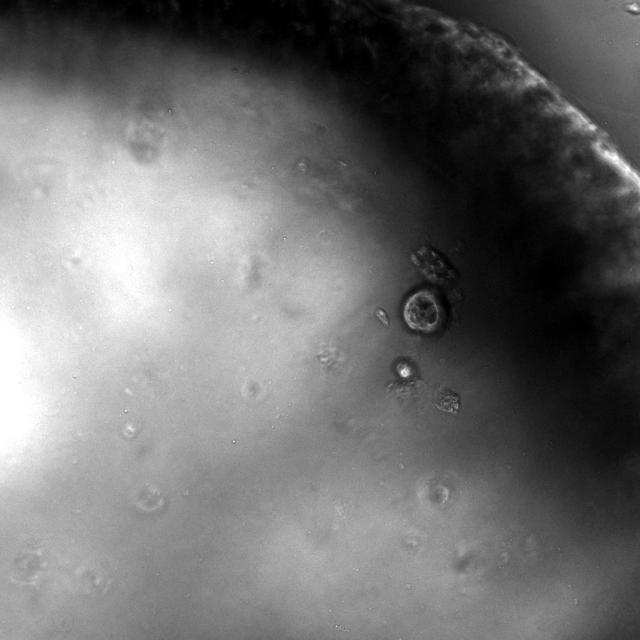organoid: (411, 242, 459, 289), (402, 287, 447, 333), (393, 356, 419, 384), (374, 307, 390, 326)
